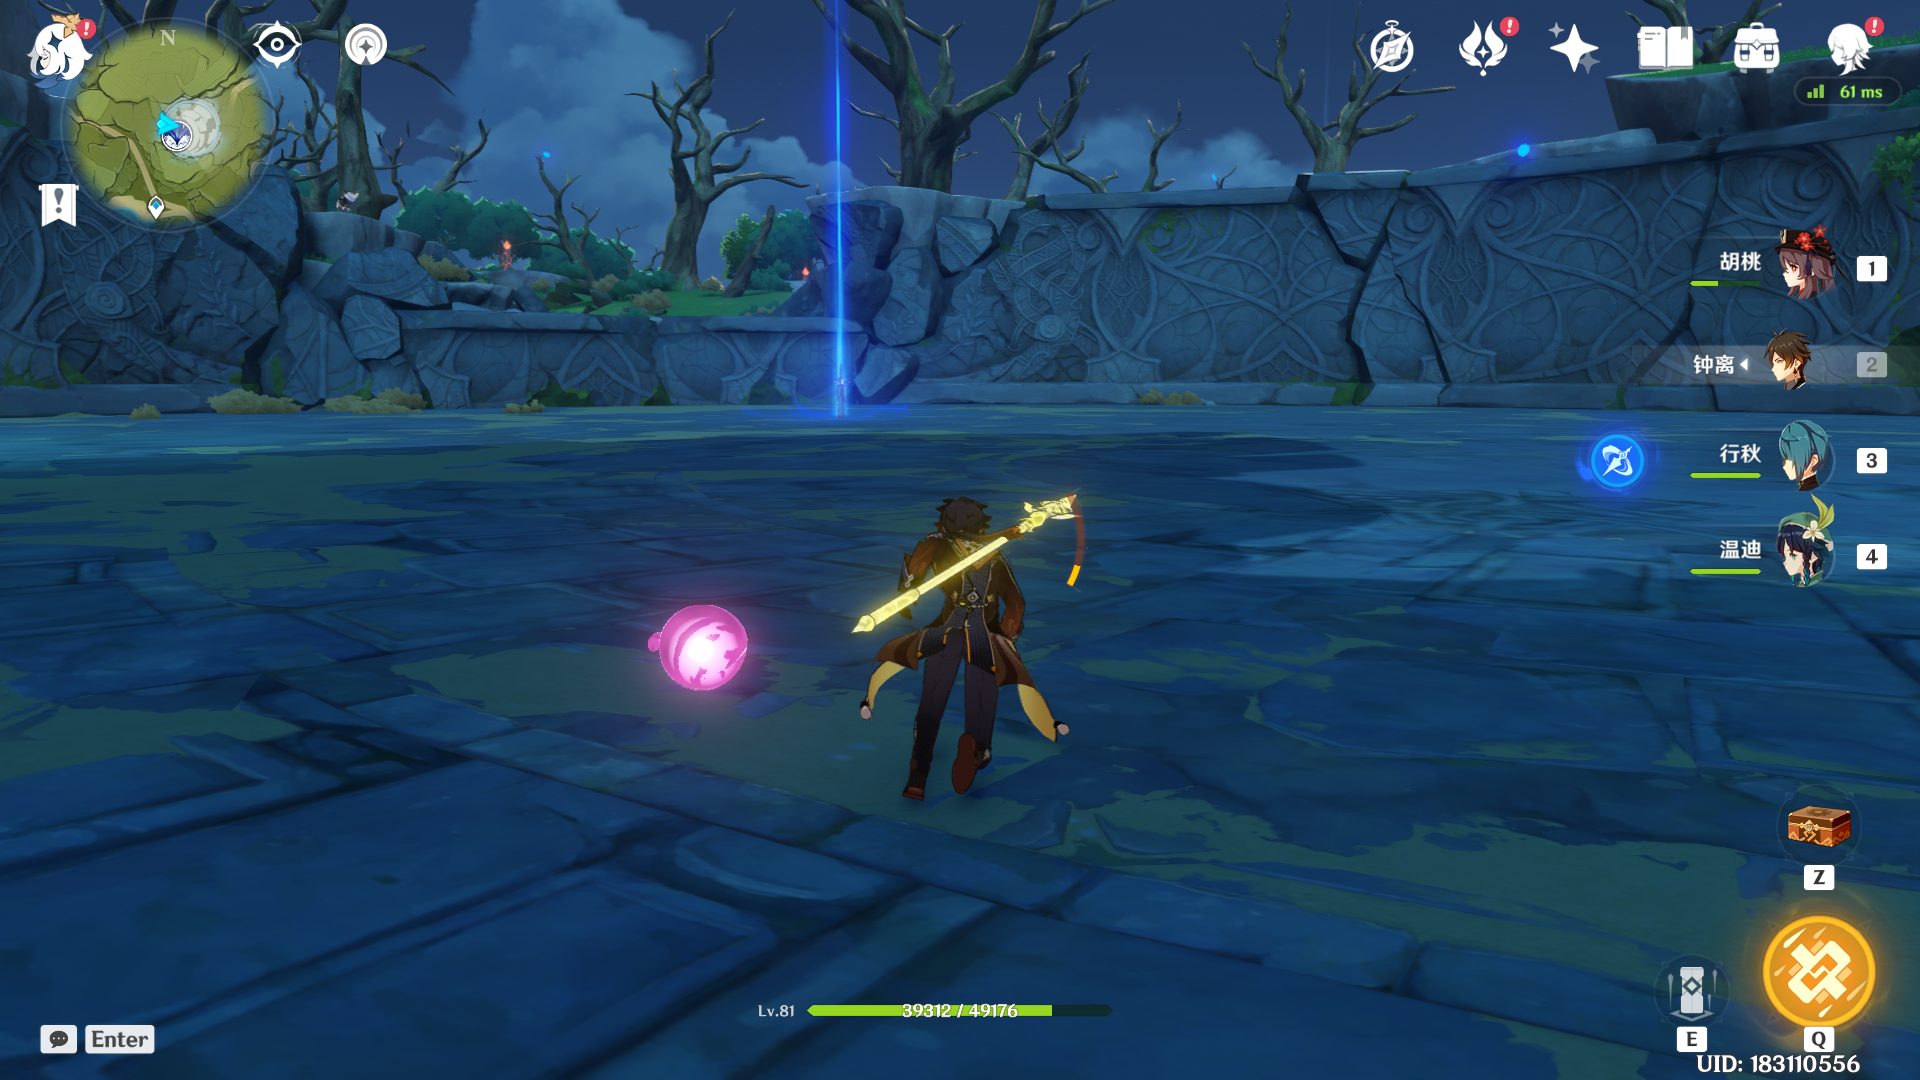character: (829, 452, 1098, 855)
